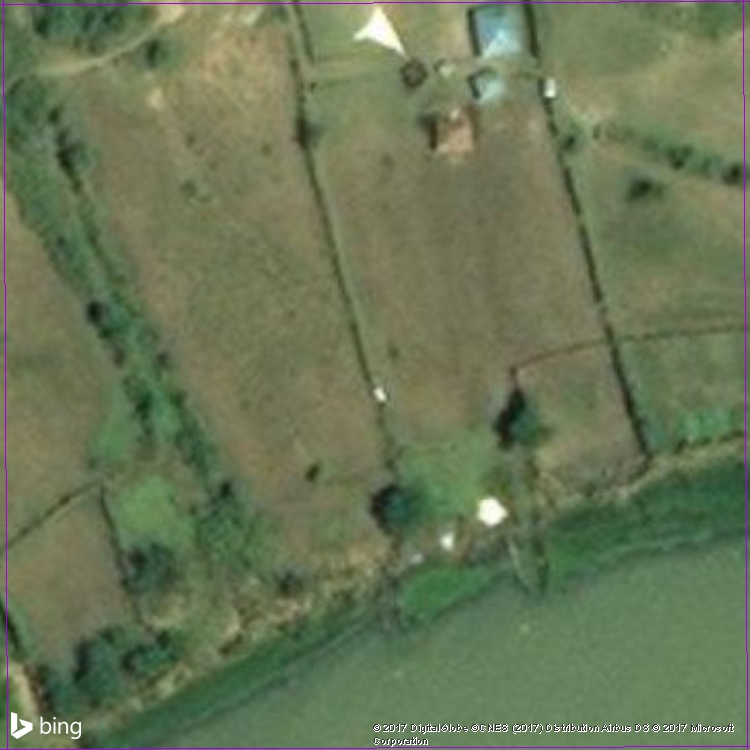boat: (501, 522, 542, 604), (384, 565, 420, 646), (363, 576, 400, 650)
